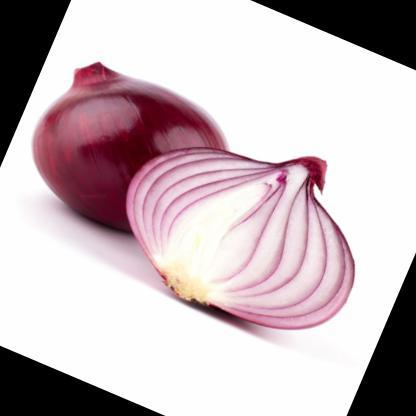onion: (5, 20, 274, 292)
